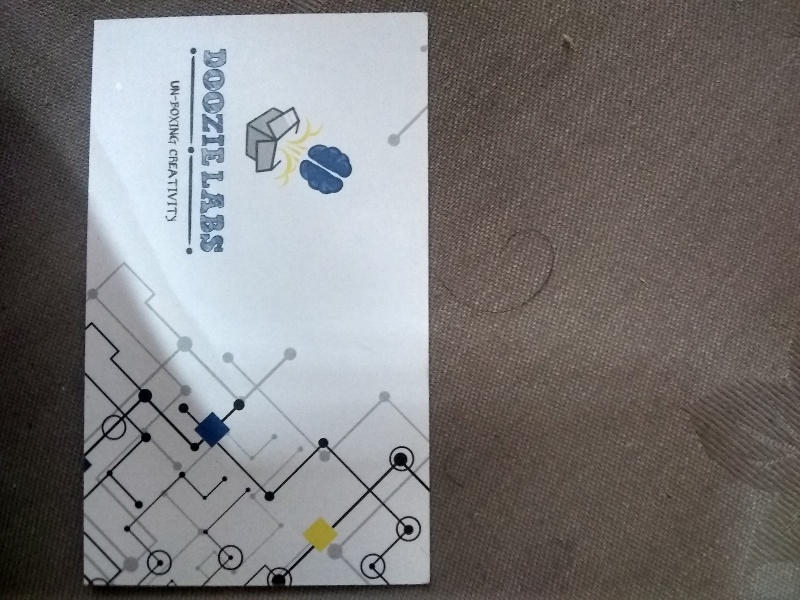back: (77, 14, 434, 592)
